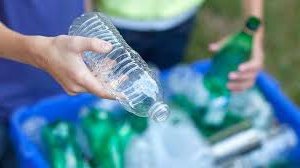plastic water bottle: (62, 8, 172, 126)
